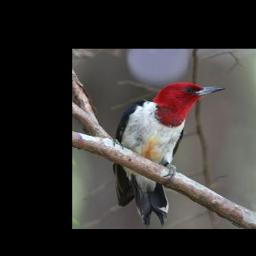Woodpecker: (113, 81, 227, 228)
